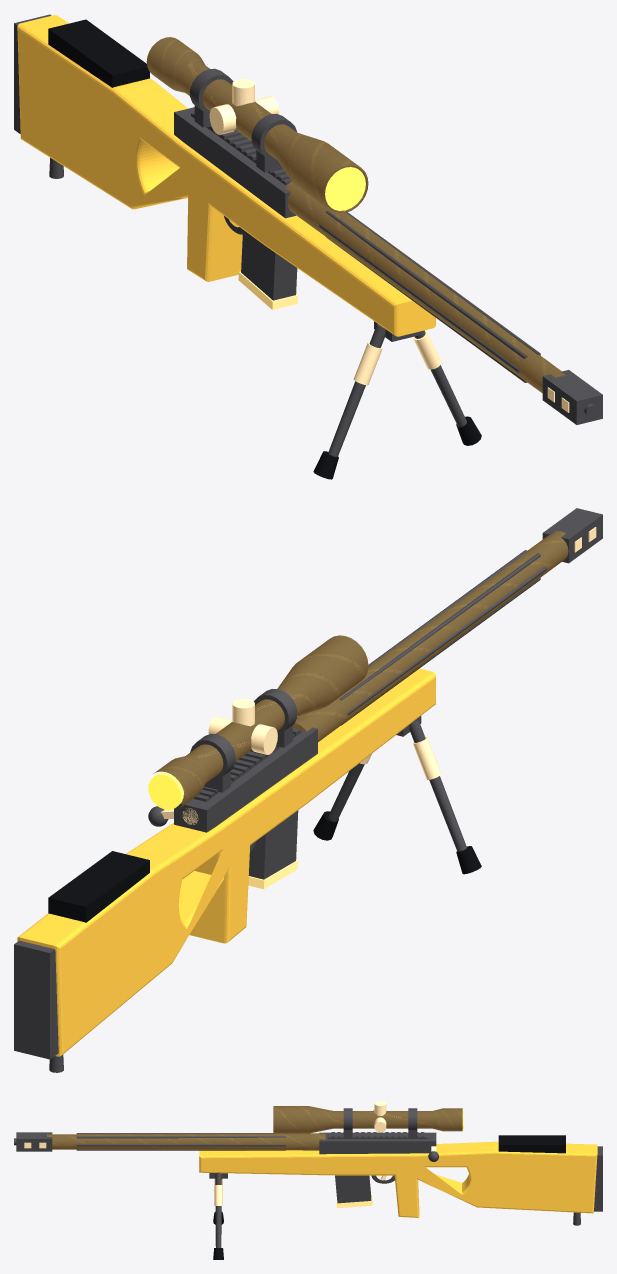
Rendered from awp_sniper (1).glb.
3 views of the same model, one above another, from view 1: azimuth 30°, elevation 25°; view 2: azimuth 150°, elevation 25°; view 3: azimuth 270°, elevation 25° (orthographic). The views are drawn at different scales.
Parts seen in each view (by area): view 1: AWP_Body_chassis, AWP_Body_metalPrimary, AWP_Body_metalDark, AWP_Body_polymer, AWP_Body_metalChrome, AWP_Mag_metalDark, AWP_Body_lens, AWP_Mag_accent; view 2: AWP_Body_chassis, AWP_Body_metalDark, AWP_Body_metalPrimary, AWP_Body_polymer, AWP_Body_metalChrome, AWP_Mag_metalDark, AWP_Body_lens; view 3: AWP_Body_chassis, AWP_Body_metalPrimary, AWP_Body_metalDark, AWP_Body_polymer, AWP_Mag_metalDark, AWP_Body_metalChrome.
Part boxes in pixels (<box>): AWP_Body_chassis: <box>17,15,435,336</box>; AWP_Body_metalPrimary: <box>146,37,565,393</box>; AWP_Body_metalDark: <box>14,14,602,456</box>; AWP_Body_polymer: <box>48,19,481,479</box>; AWP_Body_metalChrome: <box>209,79,569,412</box>; AWP_Mag_metalDark: <box>241,230,297,300</box>; AWP_Body_lens: <box>325,167,365,210</box>; AWP_Mag_accent: <box>238,271,298,309</box>; AWP_Body_chassis: <box>17,668,435,1056</box>; AWP_Body_metalDark: <box>14,508,602,1072</box>; AWP_Body_metalPrimary: <box>153,530,568,808</box>; AWP_Body_polymer: <box>48,811,481,922</box>; AWP_Body_metalChrome: <box>208,527,596,779</box>; AWP_Mag_metalDark: <box>248,810,298,879</box>; AWP_Body_lens: <box>148,773,183,809</box>; AWP_Body_chassis: <box>199,1141,597,1217</box>; AWP_Body_metalPrimary: <box>47,1106,462,1150</box>; AWP_Body_metalDark: <box>14,1108,602,1247</box>; AWP_Body_polymer: <box>213,1135,565,1259</box>; AWP_Mag_metalDark: <box>335,1175,371,1203</box>; AWP_Body_metalChrome: <box>24,1101,387,1205</box>.
Size of the model in its own units: 0.2019 by 0.3084 by 1.18.
Materials: 8 (2 with a texture image).
